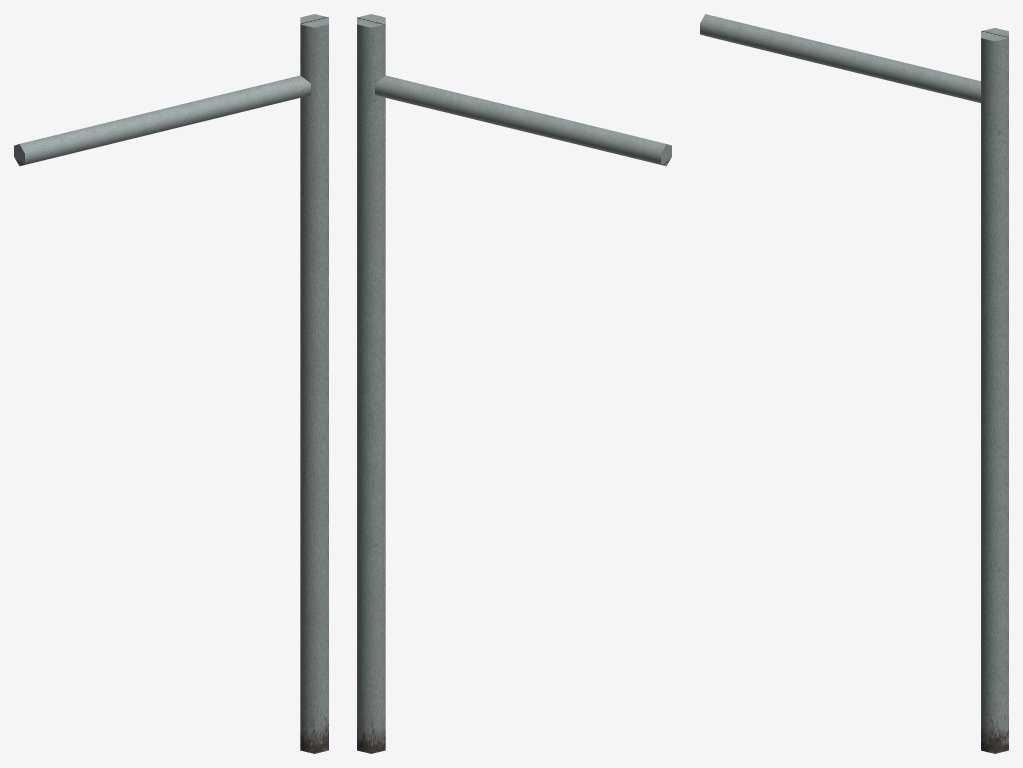
The model's file is Traffic light_Pole_3.FBX.
3 renders of one model, left to right at view 1: azimuth 30°, elevation 25°; view 2: azimuth 150°, elevation 25°; view 3: azimuth 330°, elevation 25°, orthographic.
Parts seen in each view (by area): view 1: Traffic light_Pole_3; view 2: Traffic light_Pole_3; view 3: Traffic light_Pole_3.
Boxes of the visible parts, x1,y1,x2,y2 form: Traffic light_Pole_3: [14, 14, 328, 753]; Traffic light_Pole_3: [357, 14, 671, 753]; Traffic light_Pole_3: [700, 14, 1008, 753].
Size of the model in its own units: 2.45 by 5.5 by 0.1957.
